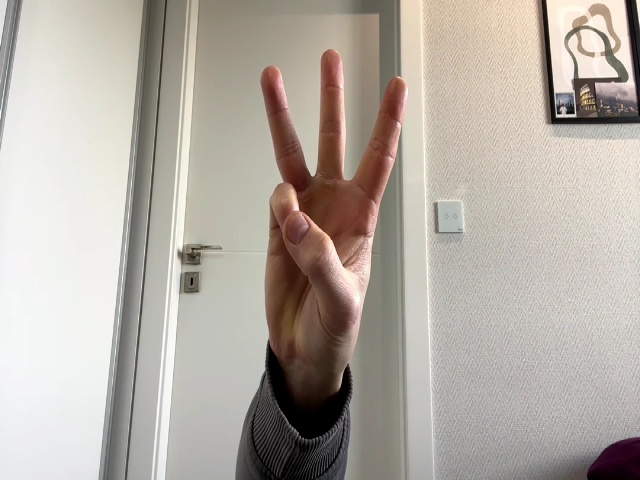W: (260, 49, 408, 365)
